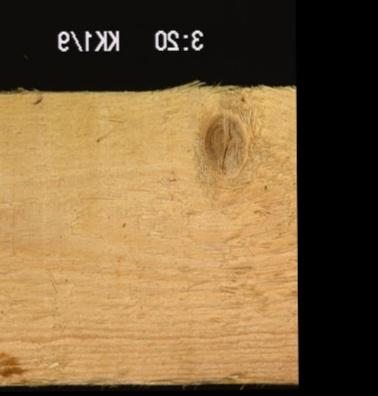sound_knot: (197, 86, 255, 191)
